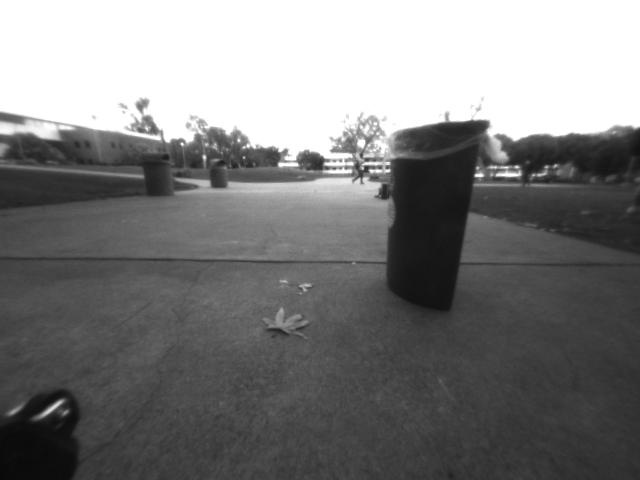trashcan_open: (381, 118, 497, 330)
